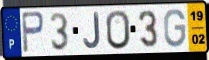3: (49, 11, 71, 52), (138, 10, 160, 49)
G: (162, 8, 187, 49)
J: (83, 11, 102, 50)
O: (105, 9, 132, 51)
P: (20, 10, 46, 55)
